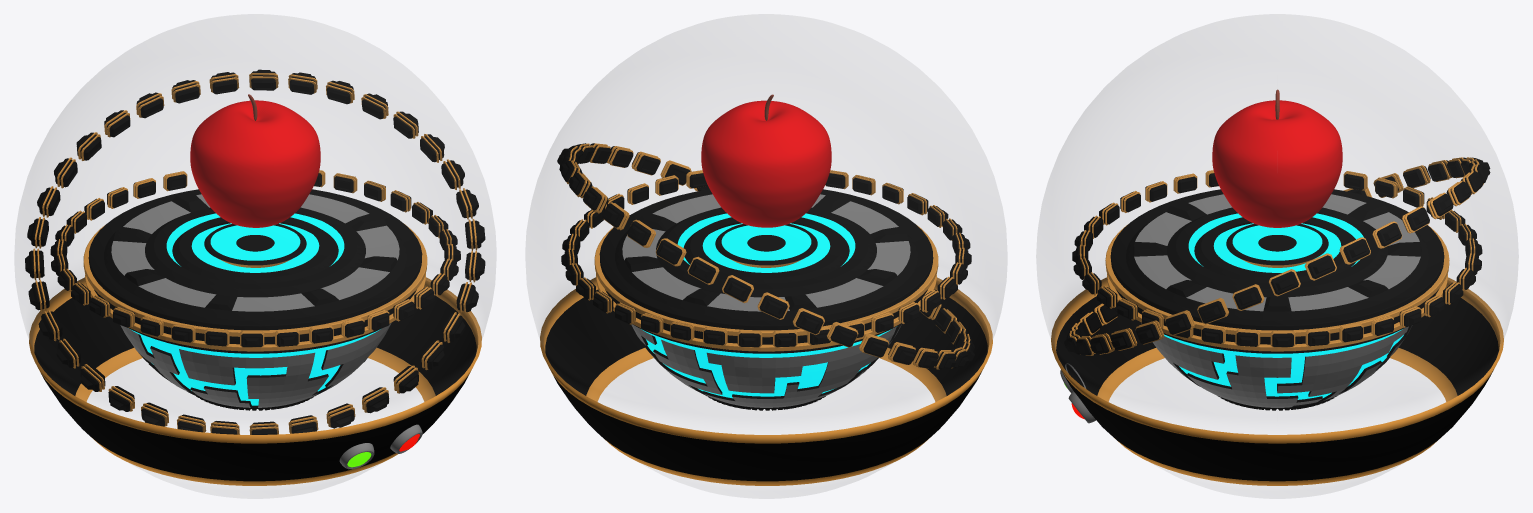
Rendered from GraviSphere.fbx.
3 views of the same model, side by side, from view 1: azimuth 30°, elevation 25°; view 2: azimuth 150°, elevation 25°; view 3: azimuth 270°, elevation 25° (orthographic).
Visible parts, largest first — view 1: Shepre, Plateforme, Anneau Externe, Pomme, Anneau Interne; view 2: Shepre, Plateforme, Pomme, Anneau Externe, Anneau Interne; view 3: Shepre, Plateforme, Pomme, Anneau Externe, Anneau Interne.
Boxes of the visible parts, <box> form: Shepre: <box>15,14,495,498</box>; Plateforme: <box>83,189,427,410</box>; Anneau Externe: <box>25,69,485,434</box>; Pomme: <box>190,94,320,227</box>; Anneau Interne: <box>50,170,460,347</box>; Shepre: <box>526,14,1006,498</box>; Plateforme: <box>594,189,938,410</box>; Pomme: <box>701,94,831,227</box>; Anneau Externe: <box>557,143,974,369</box>; Anneau Interne: <box>561,170,971,347</box>; Shepre: <box>1036,14,1518,498</box>; Plateforme: <box>1105,189,1449,410</box>; Pomme: <box>1212,89,1342,227</box>; Anneau Externe: <box>1064,157,1490,355</box>; Anneau Interne: <box>1072,170,1482,347</box>.
Size of the model in its own units: 95.01 by 96.01 by 95.01.
